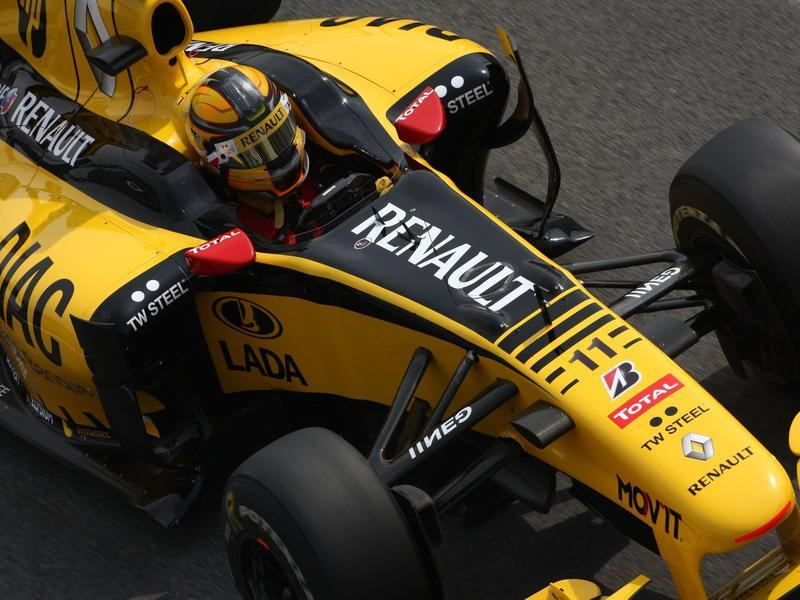f1: (1, 1, 800, 598)
